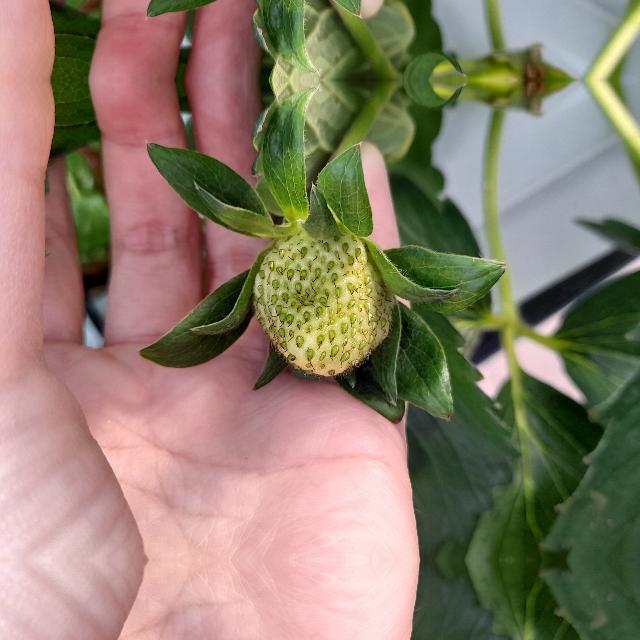Health_25: (252, 228, 394, 380)
